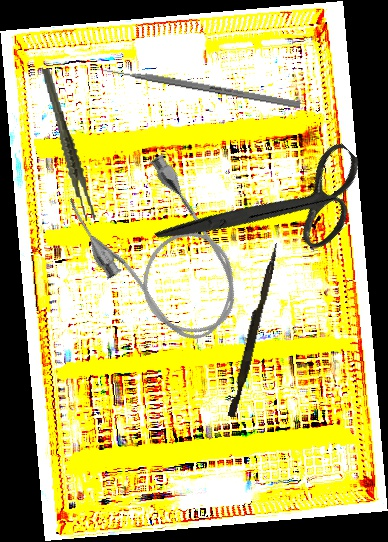Cannula: (58, 140, 263, 366)
Iris Scissors: (153, 91, 385, 326)
Pusher: (88, 63, 302, 109), (227, 241, 280, 419)
Tissue Forceps: (41, 65, 96, 224)
